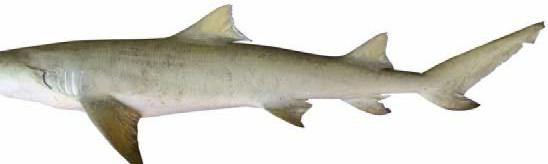Shark -Selachimorpha-: (0, 3, 547, 164)
